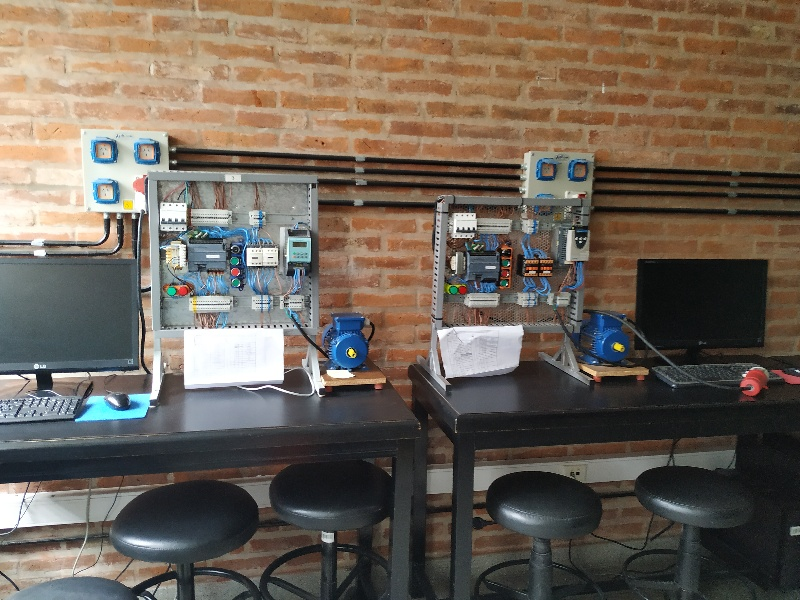Tablero 3: (154, 178, 313, 325)
Tablero 4: (446, 202, 593, 324)
